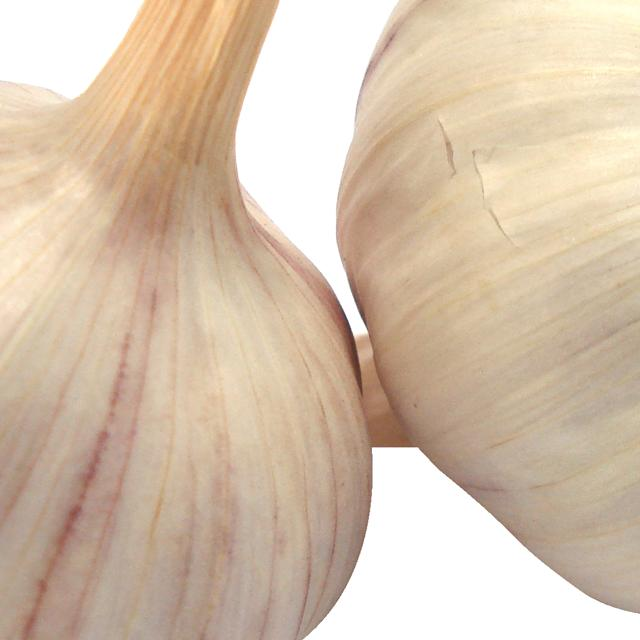garlic: (0, 0, 380, 640)
